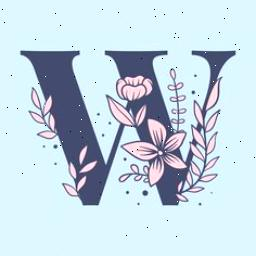w: (18, 44, 234, 210)
